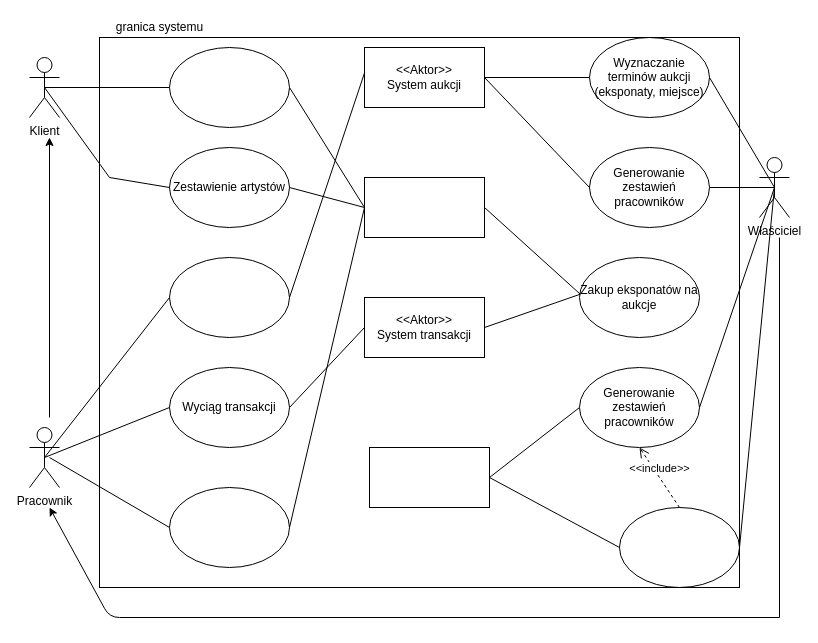
This 818x643 diagram has some shape labels left out. The shapes that lost their labels are listed below. From the top down, each one's centre as x and y in pixels, then its label:
(229,87): Przegląd wystawionych eksponatów
(424,207): <<Aktor>> System eksponatów
(229,297): Kontrola aukcji /Wizualizacja kalendarza
(429,477): <<Aktor>> System premii
(229,527): Sprawdzenie autentyczności eksponatów
(679,547): Przyznanie premii najlepszym pracownikom
